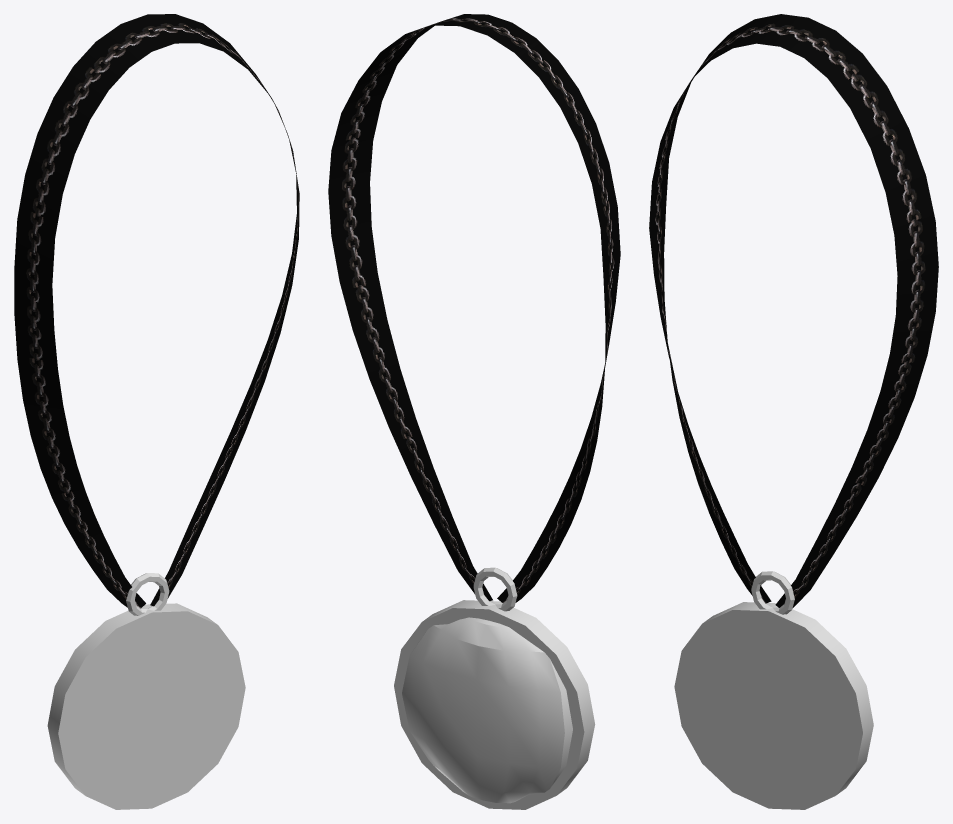
The model's file is Lapislazuli.fbx.
3 renders of one model, left to right at view 1: azimuth 30°, elevation 25°; view 2: azimuth 150°, elevation 25°; view 3: azimuth 330°, elevation 25°, orthographic.
Parts seen in each view (by area): view 1: BézierCurve, Cylinder.003, Torus; view 2: BézierCurve, Sphere.002, Cylinder.003, Torus; view 3: Cylinder.003, BézierCurve, Torus.
Part boxes in pixels (<box>): BézierCurve: <box>14,14,299,608</box>; Cylinder.003: <box>47,603,245,809</box>; Torus: <box>126,573,169,615</box>; BézierCurve: <box>328,14,620,602</box>; Sphere.002: <box>402,617,572,803</box>; Cylinder.003: <box>394,600,595,809</box>; Torus: <box>473,567,517,611</box>; Cylinder.003: <box>674,602,873,809</box>; BézierCurve: <box>649,14,938,613</box>; Torus: <box>751,571,794,614</box>.
Size of the model in its own units: 298 by 789 by 60.74.
